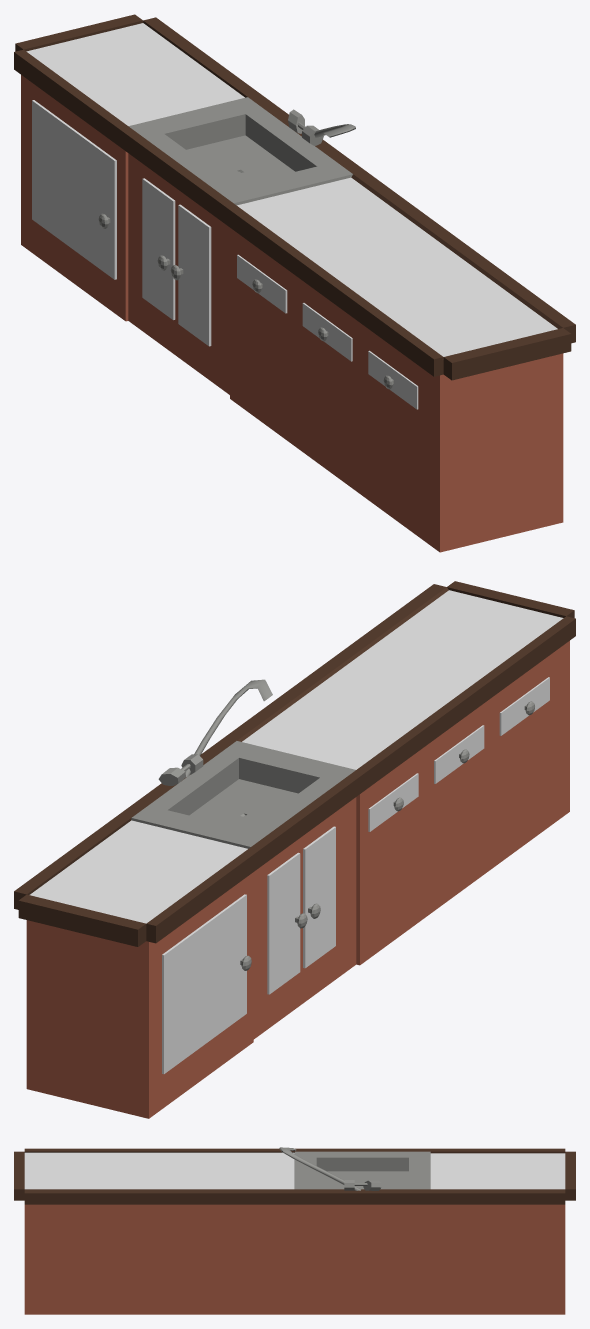
Rendered from kitchentop.fbx.
The picture shows the model from 3 angles, top to bottom: view 1: azimuth 30°, elevation 25°; view 2: azimuth 150°, elevation 25°; view 3: azimuth 270°, elevation 25°; orthographic projection. The views are drawn at different scales.
Parts seen in each view (by area): view 1: Kitchen top, Door, Door.002, Door.001, CounterSpace, CounterSpace.001, CounterSpace.002; view 2: Kitchen top, Door, Door.001, Door.002, CounterSpace, CounterSpace.001, CounterSpace.002, Faucet; view 3: Kitchen top, Faucet.
Part boxes in pixels (<box>): Kitchen top: <box>14,14,575,552</box>; Door: <box>32,100,116,279</box>; Door.002: <box>178,204,211,346</box>; Door.001: <box>142,178,175,320</box>; CounterSpace: <box>237,254,287,313</box>; CounterSpace.001: <box>302,303,352,361</box>; CounterSpace.002: <box>368,350,418,409</box>; Kitchen top: <box>14,581,575,1118</box>; Door: <box>162,894,246,1074</box>; Door.001: <box>267,852,300,994</box>; Door.002: <box>303,826,335,968</box>; CounterSpace: <box>368,773,418,831</box>; CounterSpace.001: <box>434,725,484,783</box>; CounterSpace.002: <box>499,677,549,735</box>; Faucet: <box>185,679,272,777</box>; Kitchen top: <box>14,1148,575,1314</box>; Faucet: <box>279,1147,360,1190</box>.
Size of the model in its own units: 256 by 423 by 1330.
